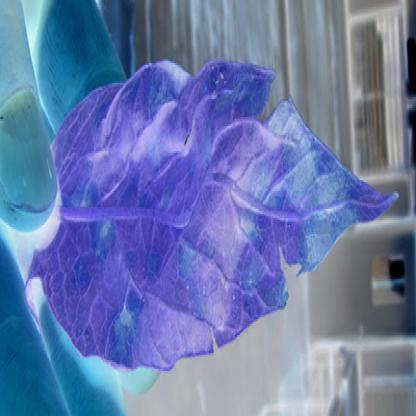tomato mold leaf: (42, 54, 403, 393)
